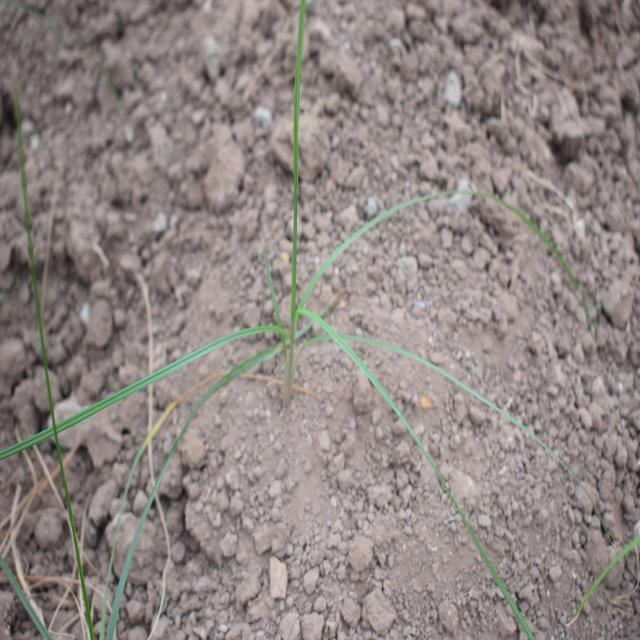sedge: (4, 0, 550, 569)
